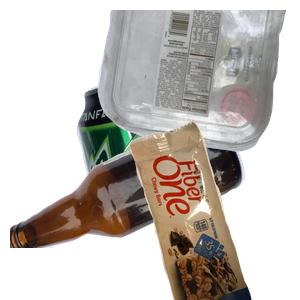glass: (10, 120, 247, 300)
metal: (74, 74, 257, 254)
plastic: (95, 10, 300, 154)
trash: (127, 120, 300, 300)
